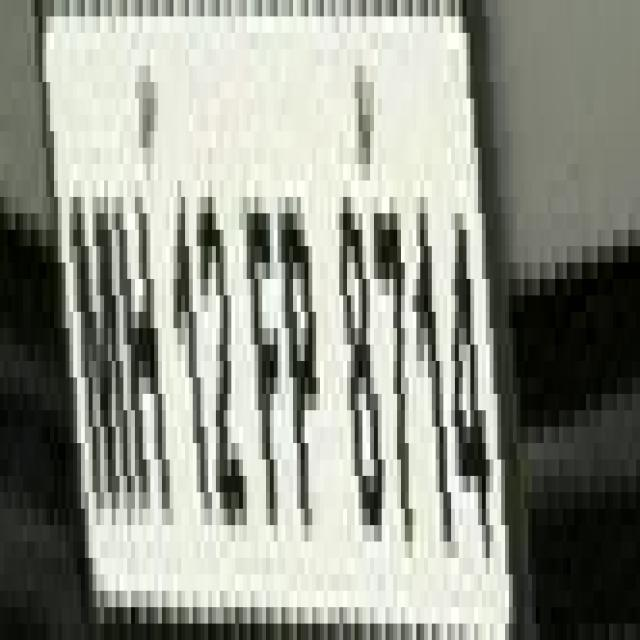license_plate: (16, 33, 582, 640)
